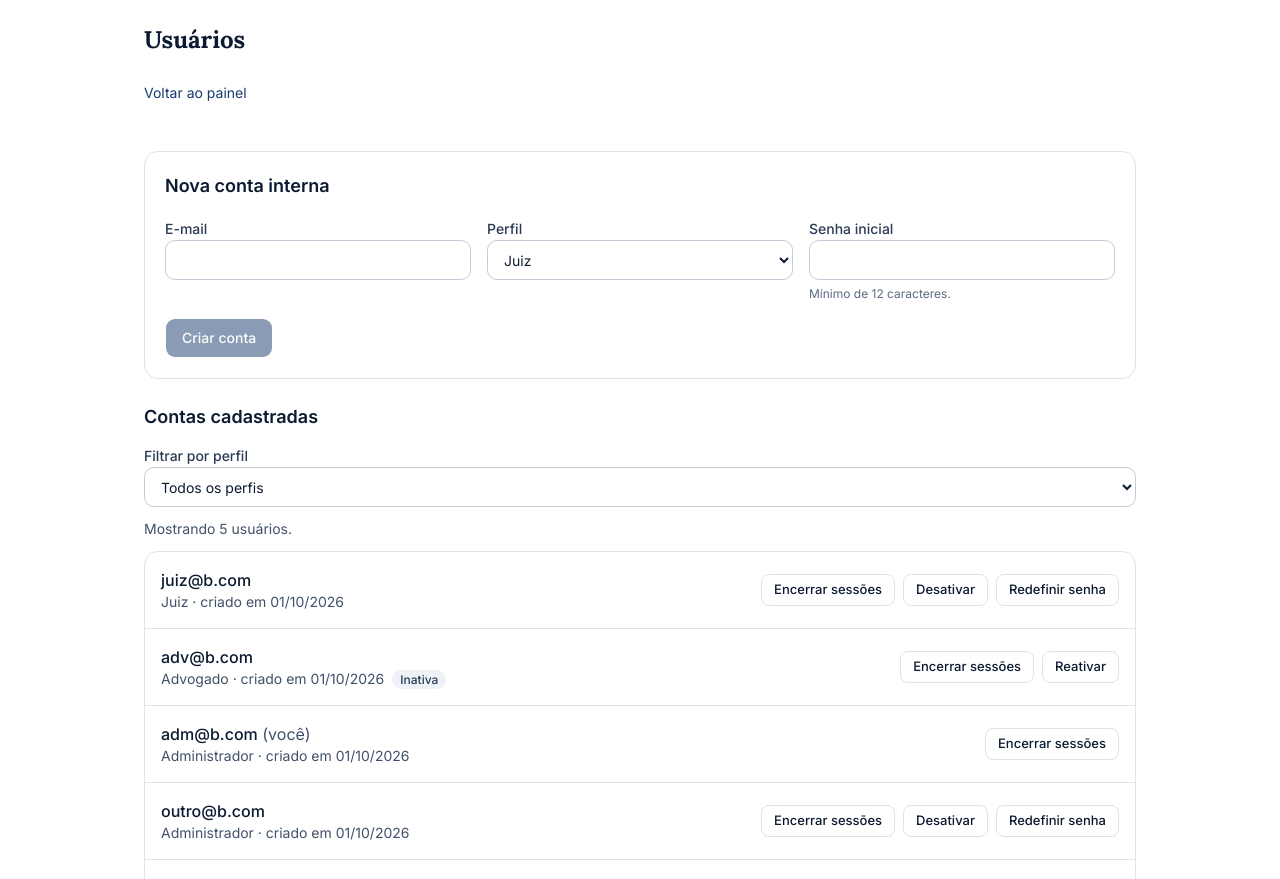
Scenario: UsersAdmin ADMIN target step-up › collects the acting admin's password inside the deactivate confirmation
The image size is (1280, 879).
expect the text "juiz@b.com" is shown: met, box top-left (161, 570), bottom-right (251, 590)
Click the button "Desativar" in the row of "outro@b.com" at (945, 821), box top-left (903, 805), bottom-right (988, 837)
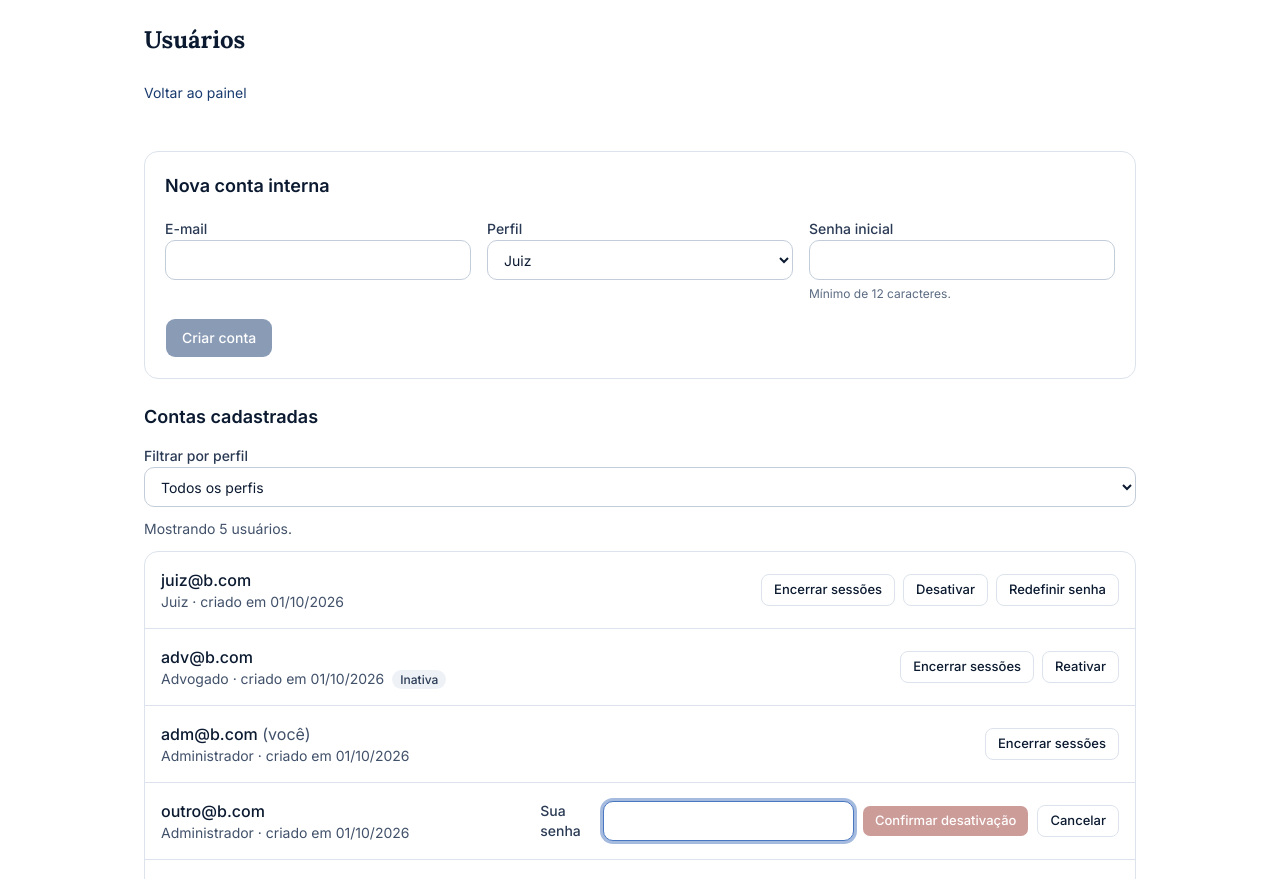
expect the button "Confirmar desativação" is disabled: met, box top-left (862, 805), bottom-right (1030, 837)
Type "minha-senha" into the password field labelled "Sua senha" at (728, 821), box top-left (603, 801), bottom-right (854, 841)
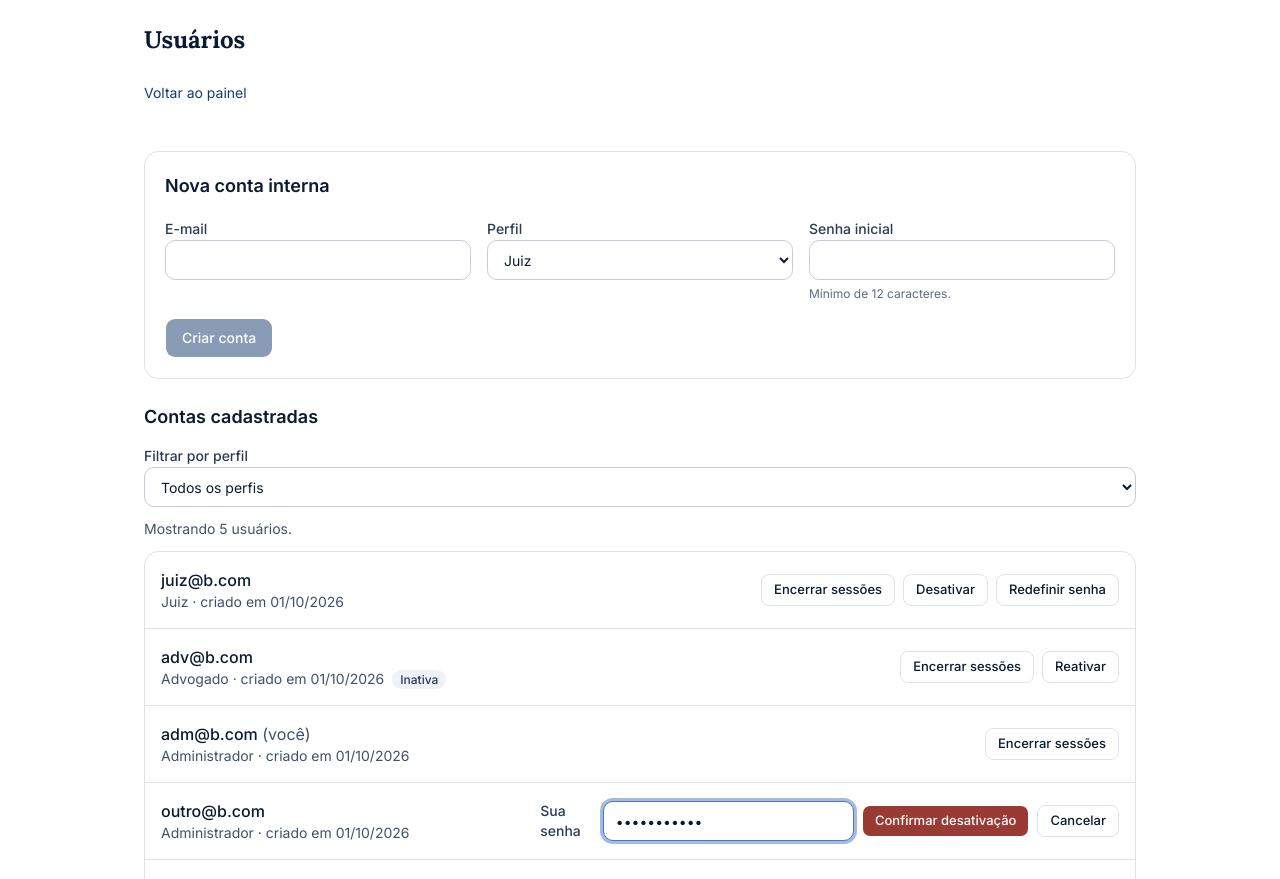
Click the button "Confirmar desativação" at (946, 821), box top-left (862, 805), bottom-right (1030, 837)
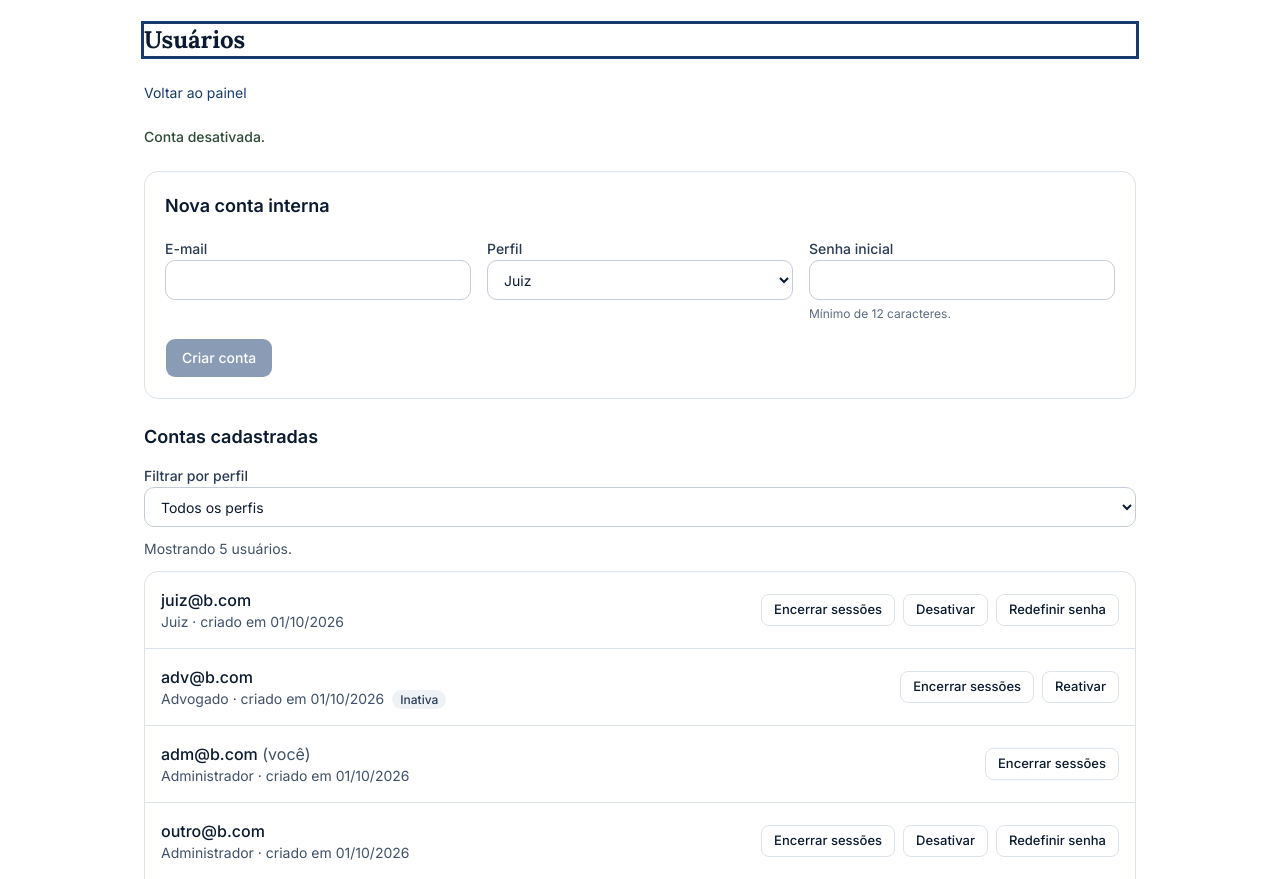
expect the text "Conta desativada." is shown: met, box top-left (144, 128), bottom-right (265, 145)
expect the label labelled "Sua senha" is gone: met
